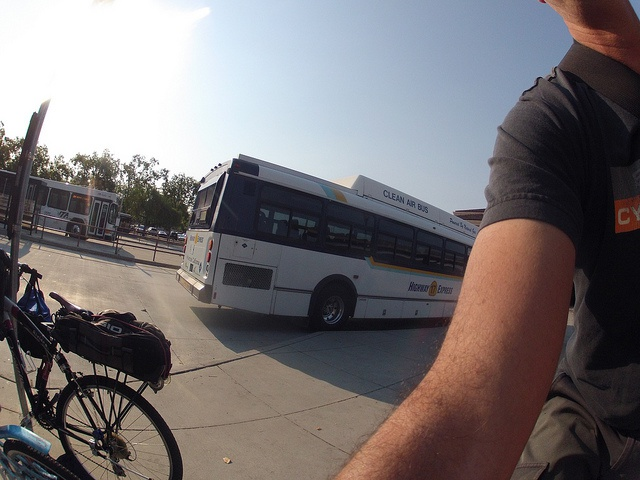non-vehicle: (0, 244, 184, 479), (0, 424, 81, 480)
